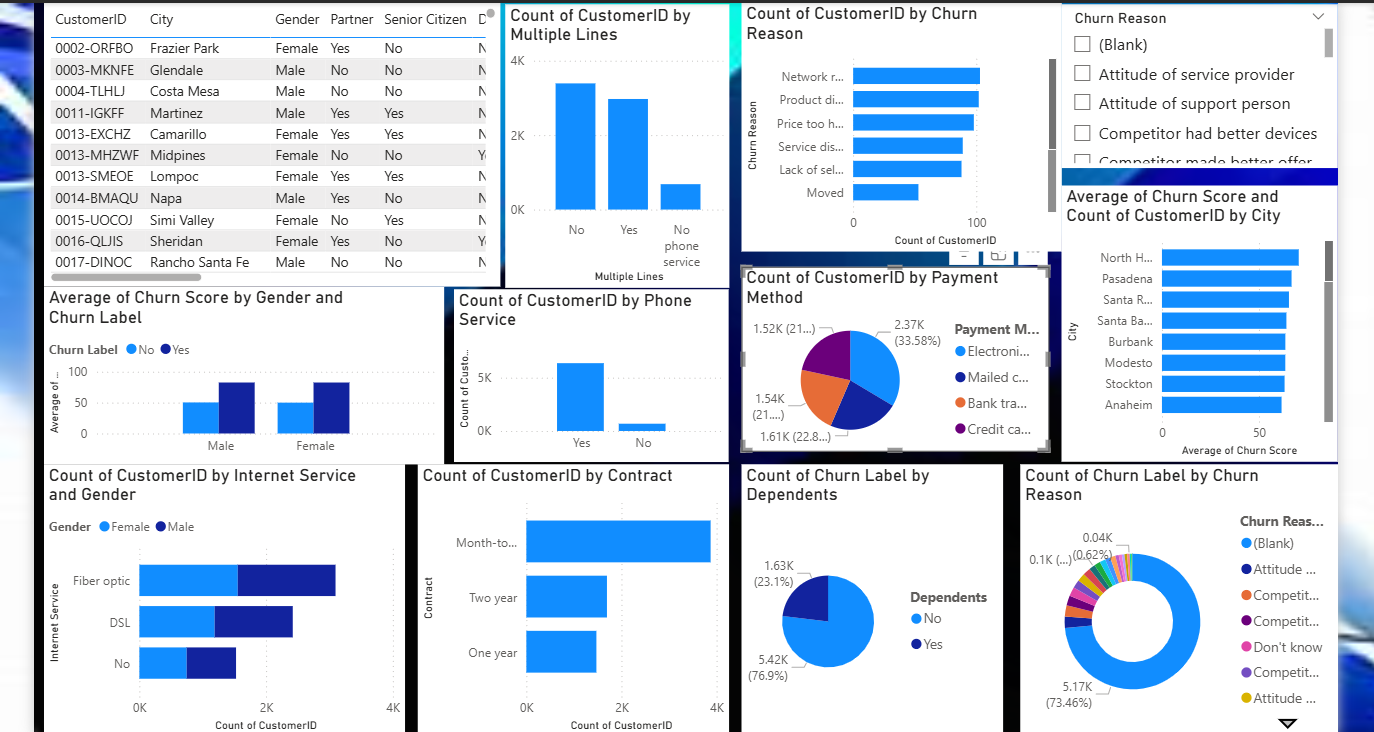

This screenshot's page, from the dashboard's own definition file:
{"tool":"powerbi","page":{"name":"Churn_analysis _dashboard","canvas":[1280,720],"ordinal":0},"visuals":[{"type":"tableEx","fields":{"Values":["Cleaned_dataset.CustomerID","Cleaned_dataset.City","Cleaned_dataset.Gender","Cleaned_dataset.Partner","Cleaned_dataset.Senior Citizen","Cleaned_dataset.Dependents","Cleaned_dataset.Phone Service","Cleaned_dataset.Multiple Lines","Cleaned_dataset.Internet Service","Cleaned_dataset.Contract","Cleaned_dataset.CLTV","Cleaned_dataset.Churn Label"]},"box":[9.8,0,447.9,278.5],"z":0},{"type":"barChart","fields":{"Category":["Cleaned_dataset.Internet Service"],"Y":["CountNonNull(Cleaned_dataset.CustomerID)"],"Series":["Cleaned_dataset.Gender"]},"box":[9.8,452.8,354.6,267.5],"z":1000},{"type":"pieChart","fields":{"Category":["Cleaned_dataset.Dependents","Cleaned_dataset.Senior Citizen","Cleaned_dataset.Partner"],"Y":["CountNonNull(Cleaned_dataset.Churn Label)"]},"box":[694.5,452.8,256.4,267.5],"z":2000},{"type":"donutChart","fields":{"Y":["CountNonNull(Cleaned_dataset.Churn Label)"],"Category":["Cleaned_dataset.Churn Reason"]},"box":[968.1,452.8,311.7,267.5],"z":3000},{"type":"clusteredColumnChart","fields":{"Category":["Cleaned_dataset.Gender"],"Y":["Avg(Cleaned_dataset.Churn Score)"],"Series":["Cleaned_dataset.Churn Label"]},"box":[9.8,278.5,392.6,174.2],"z":4000},{"type":"barChart","fields":{"Y":["CountNonNull(Cleaned_dataset.CustomerID)"],"Category":["Cleaned_dataset.Contract"]},"box":[376.7,452.8,305.5,267.5],"z":5000},{"type":"pieChart","fields":{"Y":["CountNonNull(Cleaned_dataset.CustomerID)"],"Category":["Cleaned_dataset.Payment Method"]},"box":[694.5,258.9,301.8,181.6],"z":6000},{"type":"clusteredColumnChart","fields":{"Y":["CountNonNull(Cleaned_dataset.CustomerID)"],"Category":["Cleaned_dataset.Phone Service"]},"box":[412.3,281,269.9,169.3],"z":7000},{"type":"clusteredColumnChart","fields":{"Category":["Cleaned_dataset.Multiple Lines"],"Y":["CountNonNull(Cleaned_dataset.CustomerID)"]},"box":[462.6,1.2,219.6,278.5],"z":8000},{"type":"barChart","fields":{"Y":["CountNonNull(Cleaned_dataset.CustomerID)"],"Category":["Cleaned_dataset.Churn Reason"]},"box":[694.5,0,314.1,244.2],"z":9000},{"type":"barChart","fields":{"Category":["Cleaned_dataset.City"],"Y":["Avg(Cleaned_dataset.Churn Score)"]},"box":[1008.6,179.1,271.2,271.2],"z":10000},{"type":"slicer","fields":{"Values":["Cleaned_dataset.Churn Reason"]},"box":[1008.6,1.2,271.2,160.7],"z":11000}]}

Visuals, with their boxes in screenshot pixels (x1, y1, x2, y2):
tableEx - Cleaned_dataset.CustomerID x Cleaned_dataset.City: {"left": 28, "top": 0, "right": 495, "bottom": 287}
barChart - Cleaned_dataset.Internet Service x CountNonNull(Cleaned_dataset.CustomerID): {"left": 28, "top": 468, "right": 397, "bottom": 731}
pieChart - Cleaned_dataset.Dependents x Cleaned_dataset.Senior Citizen: {"left": 741, "top": 468, "right": 1008, "bottom": 731}
donutChart - CountNonNull(Cleaned_dataset.Churn Label) x Cleaned_dataset.Churn Reason: {"left": 1026, "top": 468, "right": 1351, "bottom": 731}
clusteredColumnChart - Cleaned_dataset.Gender x Avg(Cleaned_dataset.Churn Score): {"left": 28, "top": 287, "right": 437, "bottom": 468}
barChart - CountNonNull(Cleaned_dataset.CustomerID) x Cleaned_dataset.Contract: {"left": 410, "top": 468, "right": 728, "bottom": 731}
pieChart - CountNonNull(Cleaned_dataset.CustomerID) x Cleaned_dataset.Payment Method: {"left": 741, "top": 266, "right": 1056, "bottom": 455}
clusteredColumnChart - CountNonNull(Cleaned_dataset.CustomerID) x Cleaned_dataset.Phone Service: {"left": 447, "top": 289, "right": 728, "bottom": 465}
clusteredColumnChart - Cleaned_dataset.Multiple Lines x CountNonNull(Cleaned_dataset.CustomerID): {"left": 500, "top": 0, "right": 728, "bottom": 288}
barChart - CountNonNull(Cleaned_dataset.CustomerID) x Cleaned_dataset.Churn Reason: {"left": 741, "top": 0, "right": 1068, "bottom": 251}
barChart - Cleaned_dataset.City x Avg(Cleaned_dataset.Churn Score): {"left": 1068, "top": 183, "right": 1351, "bottom": 465}
slicer - Cleaned_dataset.Churn Reason: {"left": 1068, "top": 0, "right": 1351, "bottom": 165}
